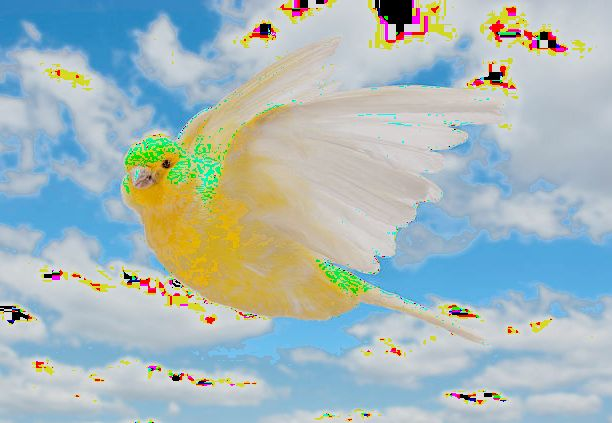Bird: (107, 29, 517, 359)
